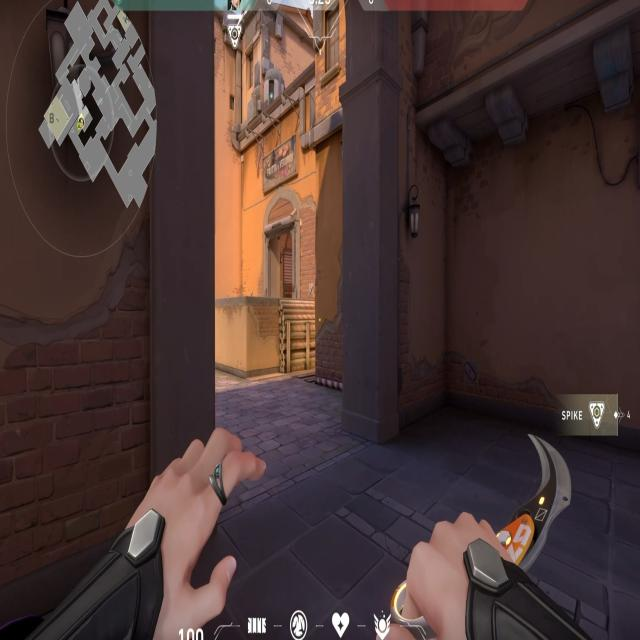B_Cubby: (242, 286, 327, 390)
